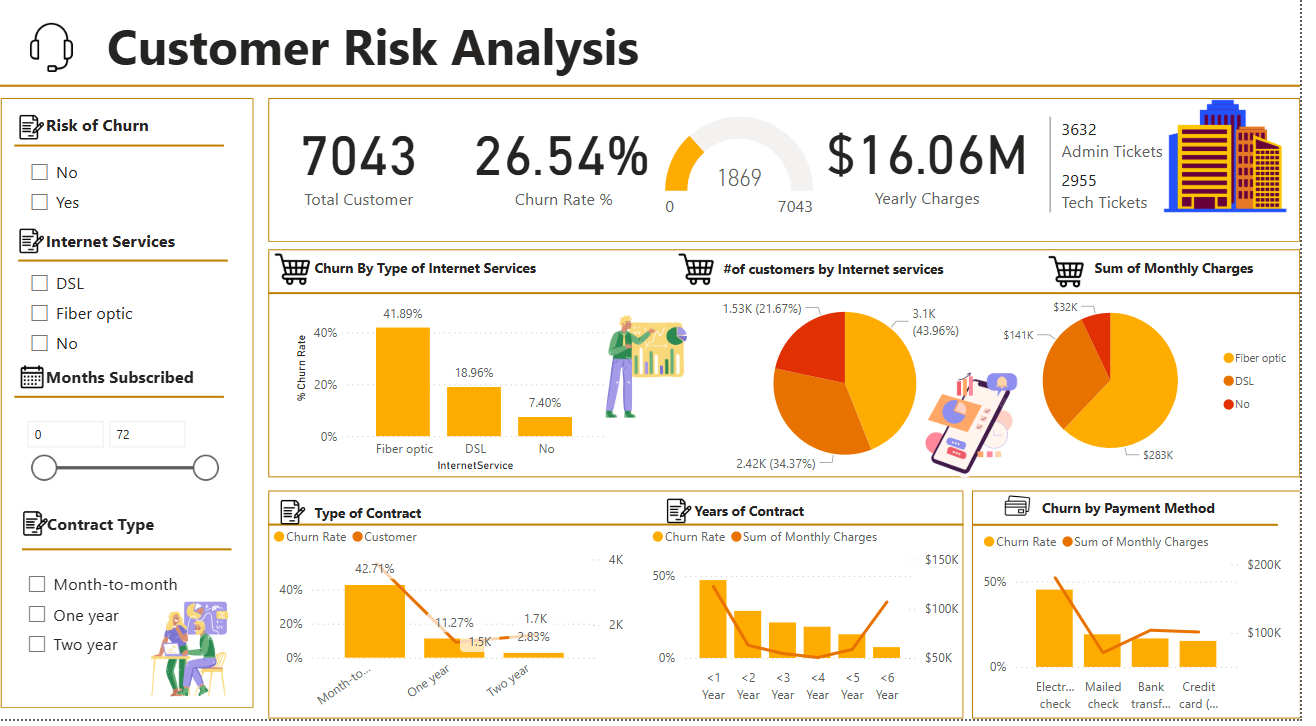

What the dashboard file says about the page in this screenshot:
{"tool":"powerbi","page":{"name":"Page 3","canvas":[1280,720],"ordinal":2},"visuals":[{"type":"shape","box":[8.7,113,247.3,597],"z":0},{"type":"shape","box":[270.5,113,1009.5,141],"z":1000},{"type":"shape","box":[270.5,259.9,1009.5,223.2],"z":2000},{"type":"shape","box":[270.5,496.5,680.1,223.2],"z":3000},{"type":"shape","box":[958.3,496.5,321.7,223.2],"z":4000},{"type":"slicer","fields":{"Values":["Churn.Churn"]},"box":[25.1,165.2,201.9,76.3],"z":5000},{"type":"slicer","fields":{"Values":["Churn.InternetService"]},"box":[25.1,273.4,201.9,108.2],"z":6000},{"type":"slicer","fields":{"Values":["Churn.tenure"]},"box":[22.2,418.3,207.7,108.2],"z":7000},{"type":"slicer","fields":{"Values":["Churn.Contract"]},"box":[23.2,569,201.9,108.2],"z":8000},{"type":"card","fields":{"Values":["CountNonNull(Churn.customerID)"]},"box":[287.9,122.7,143,100.5],"z":9000},{"type":"card","fields":{"Values":["Churn.% Churn Rate"]},"box":[464.7,122.7,185.5,100.5],"z":10000},{"type":"card","fields":{"Values":["Sum(Churn.TotalCharges)"]},"box":[808.6,117.9,213.5,109.2],"z":11000},{"type":"multiRowCard","fields":{"Values":["Sum(Churn.numAdminTickets)","Sum(Churn.numTechTickets)"]},"box":[1029.8,125.6,130.4,115.9],"z":12000},{"type":"columnChart","fields":{"Y":["Churn.% Churn Rate"],"Category":["Churn.InternetService"]},"box":[291.7,295.6,311.1,187.4],"z":13000},{"type":"pieChart","fields":{"Y":["CountNonNull(Churn.customerID)"],"Category":["Churn.InternetService"]},"box":[689.8,292.7,289.8,199],"z":14000},{"type":"pieChart","fields":{"Category":["Churn.InternetService"],"Y":["Sum(Churn.MonthlyCharges)"]},"box":[979.6,285.9,300.4,205.8],"z":15000},{"type":"lineStackedColumnComboChart","fields":{"Y":["Churn.% Churn Rate"],"Y2":["CountNonNull(Churn.customerID)"],"Category":["Churn.Contract"]},"box":[270.5,522.6,352.6,197.1],"z":16000},{"type":"lineStackedColumnComboChart","fields":{"Y":["Churn.% Churn Rate"],"Y2":["Sum(Churn.MonthlyCharges)"],"Category":["Churn.Tenure (In years)"]},"box":[640.5,522.6,310.1,189.3],"z":17000},{"type":"lineStackedColumnComboChart","fields":{"Y":["Churn.% Churn Rate"],"Y2":["Sum(Churn.MonthlyCharges)"],"Category":["Churn.PaymentMethod"]},"box":[965.1,526.5,301.4,193.2],"z":18000},{"type":"textbox","box":[107.2,23.2,582.5,78.2],"z":19000},{"type":"shape","box":[0,81.1,1280,39.6],"z":20000},{"type":"image","box":[29.9,33.8,58,58],"z":21000},{"type":"textbox","box":[47.3,122.7,125.6,35.7],"z":22000},{"type":"shape","box":[22.2,144.9,204.8,27],"z":23000},{"type":"shape","box":[25.1,257.9,204.8,27],"z":24000},{"type":"shape","box":[22.2,391.2,204.8,27],"z":25000},{"type":"shape","box":[29.9,540,204.8,27],"z":26000},{"type":"textbox","box":[47.3,235.7,150.7,35.7],"z":27000},{"type":"textbox","box":[47.3,369,168.1,35.7],"z":28000},{"type":"textbox","box":[48.3,512,168.1,35.7],"z":29000},{"type":"gauge","fields":{"Y":["Churn.Churn Count"],"MaxValue":["CountNonNull(Churn.customerID)"]},"box":[640.5,125.6,180.6,114],"z":30000},{"type":"textbox","box":[311.1,264.7,239.6,40.6],"z":31000},{"type":"textbox","box":[711,265.7,239.6,40.6],"z":32000},{"type":"textbox","box":[1074.2,264.7,183.5,40.6],"z":33000},{"type":"shape","box":[270.5,292.7,1009.5,22.2],"z":34000},{"type":"textbox","box":[311.1,504.3,239.6,35.7],"z":35000},{"type":"textbox","box":[682,502.3,126.6,29.9],"z":36000},{"type":"textbox","box":[1022.1,499.4,199,32.8],"z":37000},{"type":"shape","box":[270.5,517.8,680.1,25.1],"z":38000},{"type":"shape","box":[958.3,515.9,299.5,28],"z":39000},{"type":"image","box":[900.3,369,115.9,122.7],"z":40000},{"type":"image","box":[141,600.9,105.3,102.4],"z":41000},{"type":"image","box":[1134.1,98.5,145.9,141],"z":42000},{"type":"image","box":[584.5,320.7,111.1,110.1],"z":43000},{"type":"image","box":[22.2,120.8,33.8,39.6],"z":44000},{"type":"image","box":[22.2,231.8,33.8,39.6],"z":45000},{"type":"image","box":[25.1,508.1,33.8,39.6],"z":46000},{"type":"image","box":[277.3,497.5,33.8,39.6],"z":47000},{"type":"image","box":[655.9,496.5,33.8,39.6],"z":48000},{"type":"image","box":[23.2,369,31.9,31.9],"z":49000},{"type":"image","box":[270.5,257.9,47.3,44.4],"z":50000},{"type":"image","box":[665.6,257.9,47.3,44.4],"z":51000},{"type":"image","box":[1026.9,260.8,47.3,44.4],"z":52000},{"type":"image","box":[984.4,493.6,37.7,34.8],"z":53000}]}

Visuals, with their boxes in screenshot pixels (x1, y1, x2, y2), scaled from the page's 1280x720 canvas onto the 1316x726 screenshot:
shape: box(9, 114, 263, 716)
shape: box(278, 114, 1315, 256)
shape: box(278, 262, 1315, 487)
shape: box(278, 501, 977, 725)
shape: box(985, 501, 1315, 725)
slicer - Churn.Churn: box(26, 167, 233, 244)
slicer - Churn.InternetService: box(26, 276, 233, 385)
slicer - Churn.tenure: box(23, 422, 236, 531)
slicer - Churn.Contract: box(24, 574, 231, 683)
card - CountNonNull(Churn.customerID): box(296, 124, 443, 225)
card - Churn.% Churn Rate: box(478, 124, 668, 225)
card - Sum(Churn.TotalCharges): box(831, 119, 1051, 229)
multiRowCard - Sum(Churn.numAdminTickets) x Sum(Churn.numTechTickets): box(1059, 127, 1193, 244)
columnChart - Churn.% Churn Rate x Churn.InternetService: box(300, 298, 620, 487)
pieChart - CountNonNull(Churn.customerID) x Churn.InternetService: box(709, 295, 1007, 496)
pieChart - Churn.InternetService x Sum(Churn.MonthlyCharges): box(1007, 288, 1315, 496)
lineStackedColumnComboChart - Churn.% Churn Rate x CountNonNull(Churn.customerID): box(278, 527, 641, 725)
lineStackedColumnComboChart - Churn.% Churn Rate x Sum(Churn.MonthlyCharges): box(659, 527, 977, 718)
lineStackedColumnComboChart - Churn.% Churn Rate x Sum(Churn.MonthlyCharges): box(992, 531, 1302, 725)
textbox: box(110, 23, 709, 102)
shape: box(0, 82, 1315, 122)
image: box(31, 34, 90, 93)
textbox: box(49, 124, 178, 160)
shape: box(23, 146, 233, 173)
shape: box(26, 260, 236, 287)
shape: box(23, 394, 233, 422)
shape: box(31, 544, 241, 572)
textbox: box(49, 238, 204, 274)
textbox: box(49, 372, 221, 408)
textbox: box(50, 516, 222, 552)
gauge - Churn.Churn Count x CountNonNull(Churn.customerID): box(659, 127, 844, 242)
textbox: box(320, 267, 566, 308)
textbox: box(731, 268, 977, 309)
textbox: box(1104, 267, 1293, 308)
shape: box(278, 295, 1315, 318)
textbox: box(320, 509, 566, 544)
textbox: box(701, 506, 831, 537)
textbox: box(1051, 504, 1255, 537)
shape: box(278, 522, 977, 547)
shape: box(985, 520, 1293, 548)
image: box(926, 372, 1045, 496)
image: box(145, 606, 253, 709)
image: box(1166, 99, 1315, 241)
image: box(601, 323, 715, 434)
image: box(23, 122, 58, 162)
image: box(23, 234, 58, 274)
image: box(26, 512, 61, 552)
image: box(285, 502, 320, 542)
image: box(674, 501, 709, 541)
image: box(24, 372, 57, 404)
image: box(278, 260, 327, 305)
image: box(684, 260, 733, 305)
image: box(1056, 263, 1104, 308)
image: box(1012, 498, 1051, 533)
